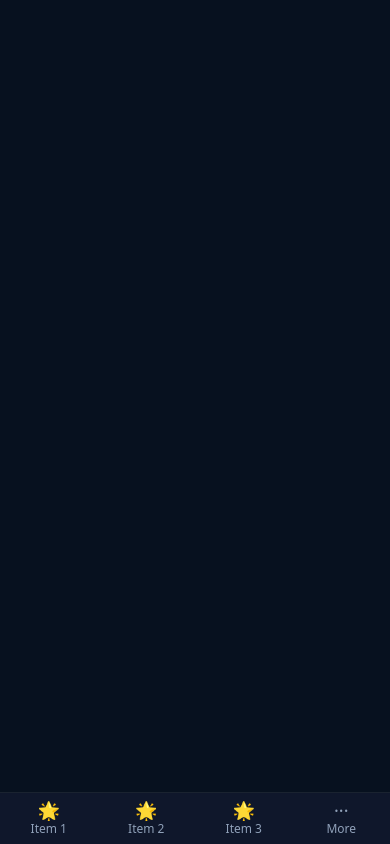
BottomNavOverflow › closes the overflow sheet on pressing Escape
Click the button "··· More" at [341, 818], box [292, 793, 389, 843]
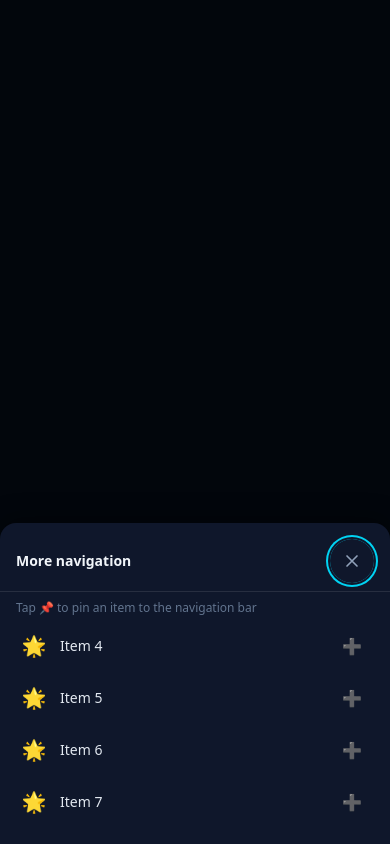
expect the dialog is shown: met, box [0, 523, 389, 843]
Press Escape
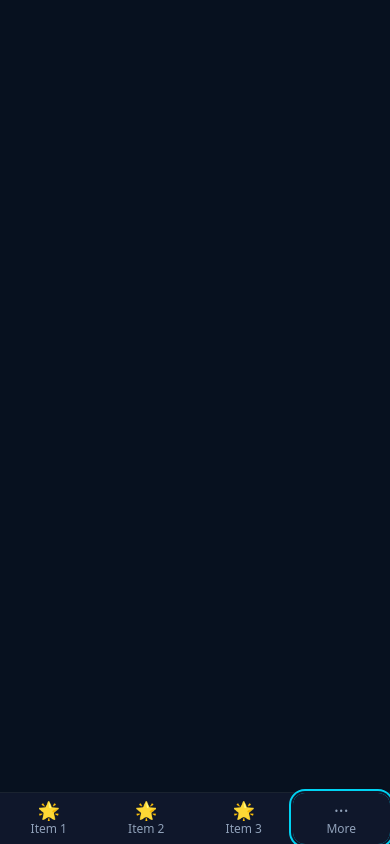
expect the dialog is gone: met
